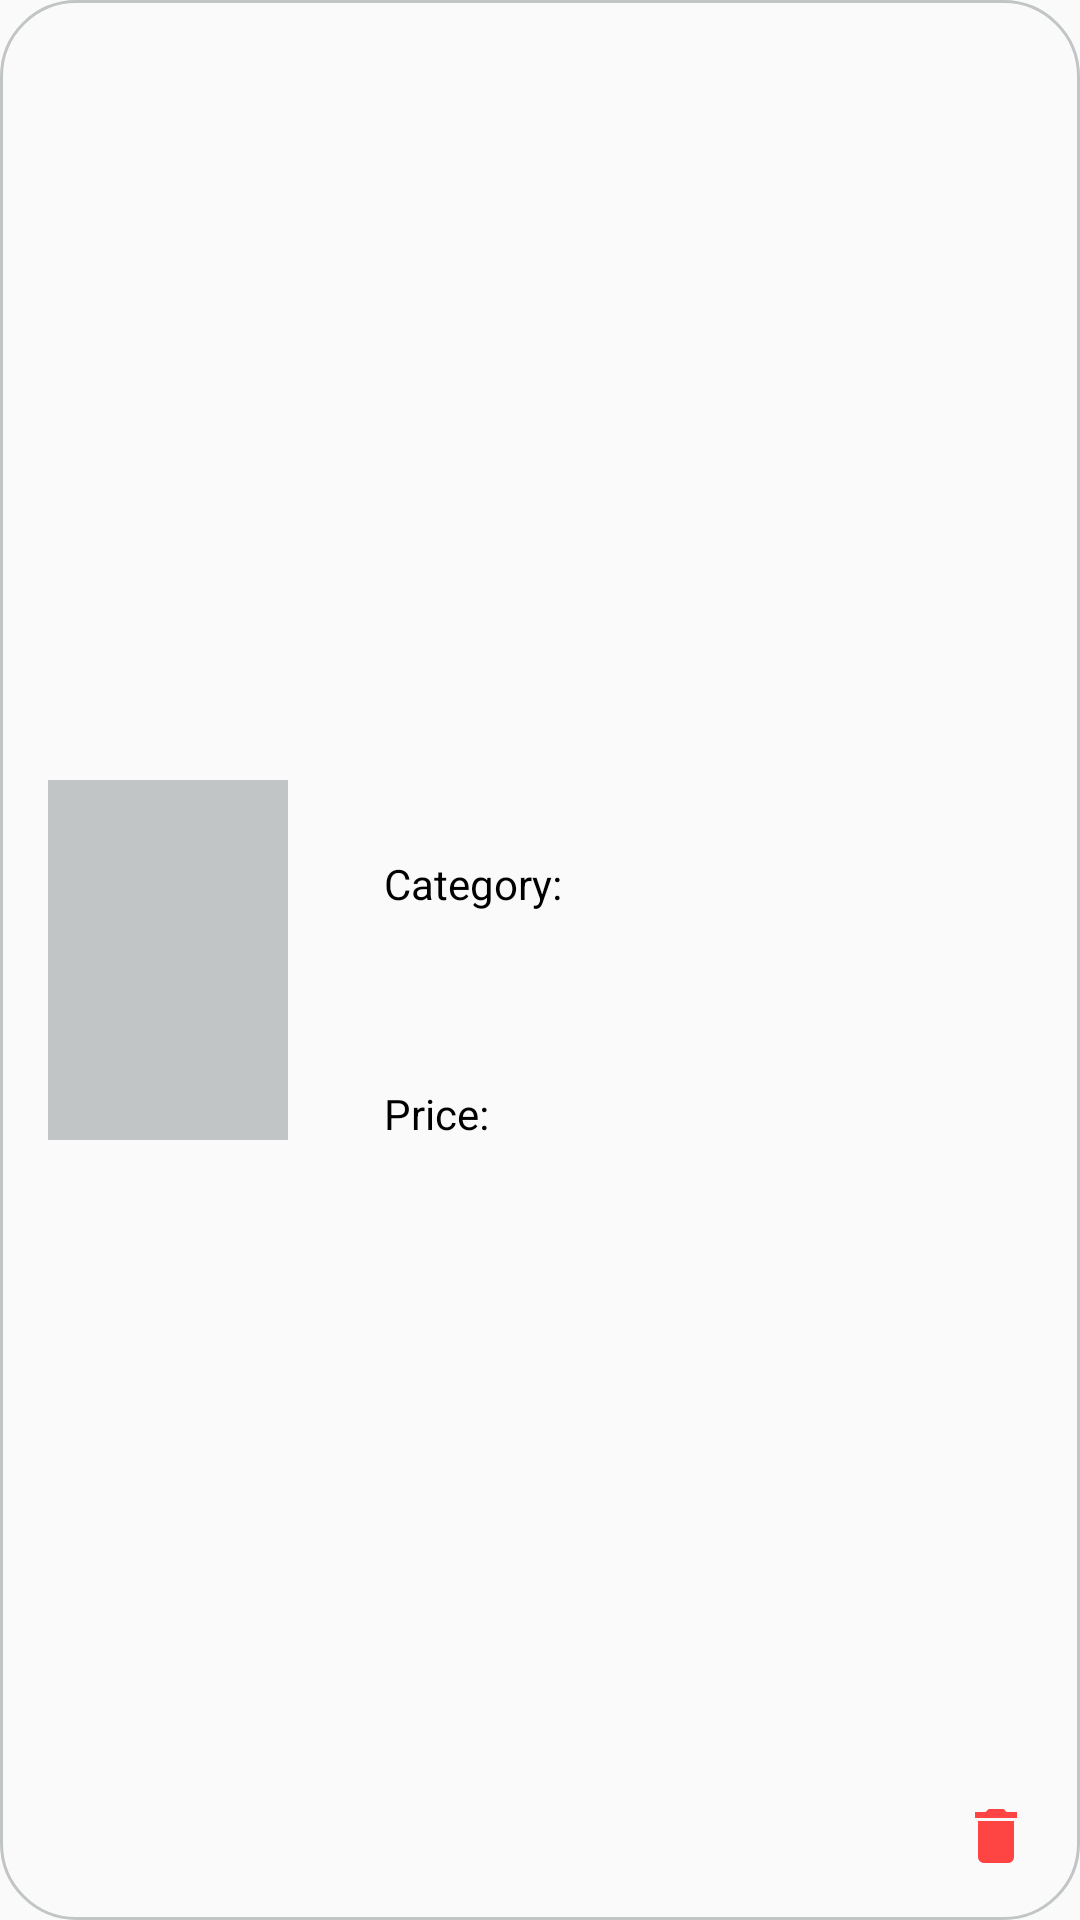

Icon bounding boxes for this 1080 × 1920 phone screenshot, format box(x1, y1, x2, y2):
delete: box(975, 1809, 1017, 1863)
